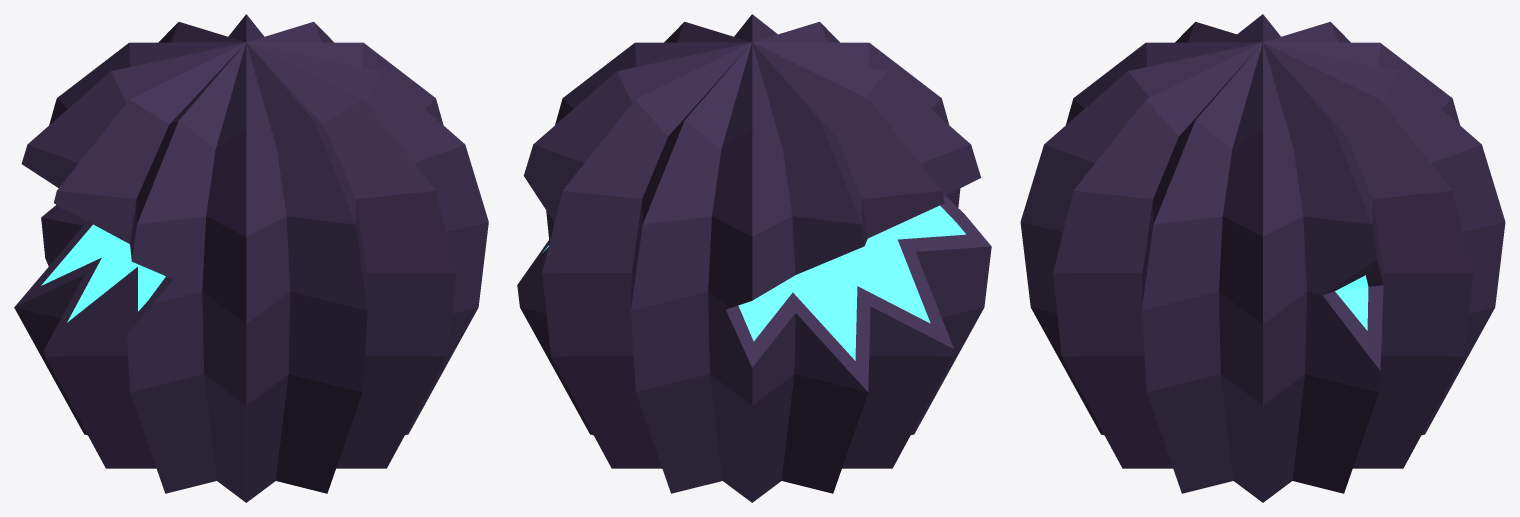
Rendered from LPSciFi_AlienPlantF.fbx.
3 renders of one model, left to right at view 1: azimuth 30°, elevation 25°; view 2: azimuth 150°, elevation 25°; view 3: azimuth 270°, elevation 25°, orthographic.
Parts seen in each view (by area): view 1: AlienPlantF; view 2: AlienPlantF; view 3: AlienPlantF.
Part boxes in pixels (x1,y1,x2,y2): AlienPlantF: (14, 14, 488, 502); AlienPlantF: (517, 14, 991, 502); AlienPlantF: (1020, 14, 1505, 502).
Size of the model in its own units: 136 by 123 by 138.
